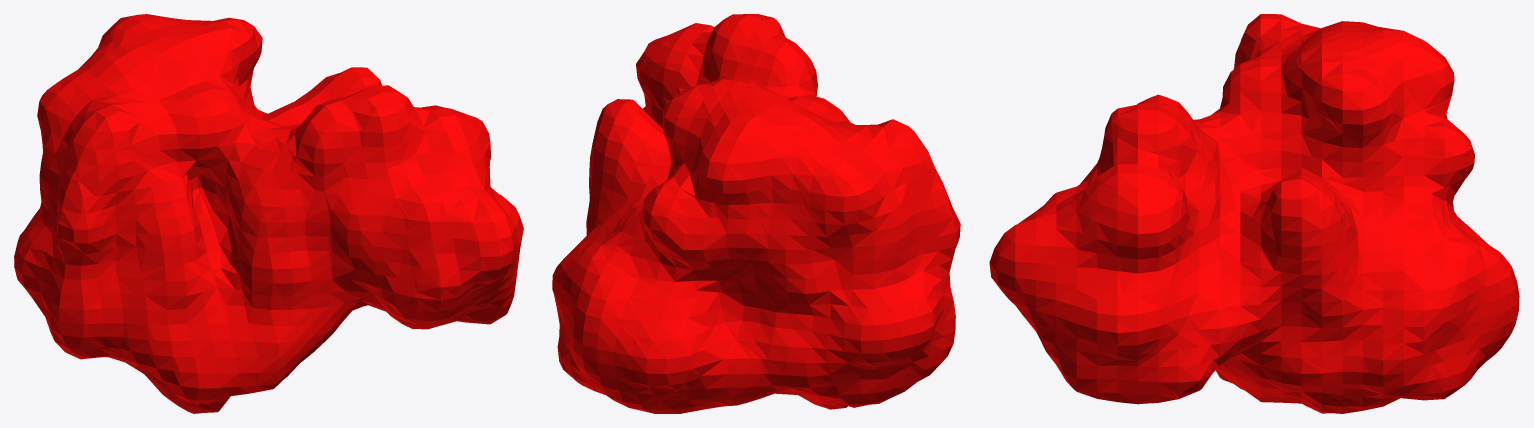
Rendered from glcB_coarse.dae.
3 renders of one model, left to right at view 1: azimuth 30°, elevation 25°; view 2: azimuth 150°, elevation 25°; view 3: azimuth 270°, elevation 25°, orthographic. The views are drawn at different scales.
Visible parts, largest first — view 1: glcB; view 2: glcB; view 3: glcB.
Boxes of the visible parts, <box> form: glcB: <box>14,14,523,413</box>; glcB: <box>552,14,960,413</box>; glcB: <box>989,14,1519,413</box>.
Bounding box in the file's own units: 77.84 × 63.44 × 85.07.
